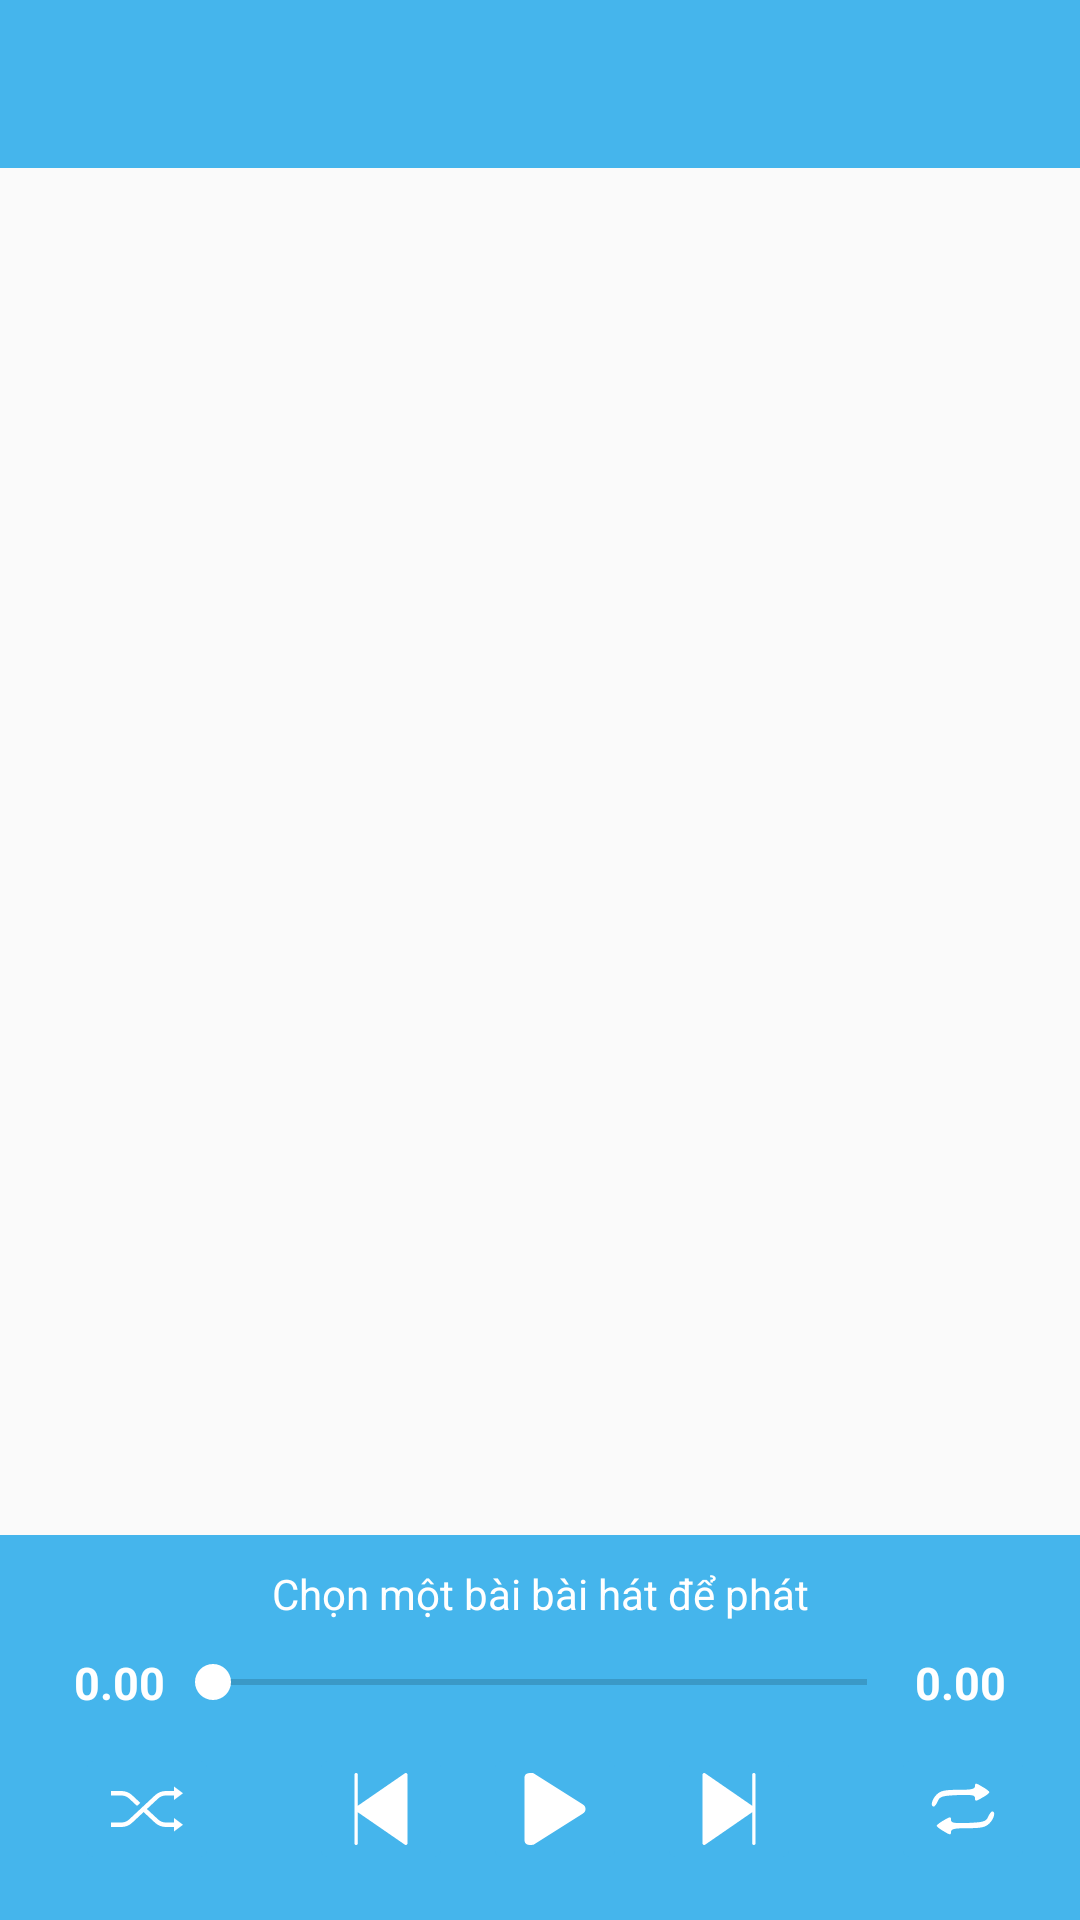

Where to tap for icons on this 1080w x 1920h app screen, as [x,y]:
next: [729,1809]
no repeat: [963,1809]
no shuffle: [147,1809]
play: [555,1809]
previous: [381,1809]
